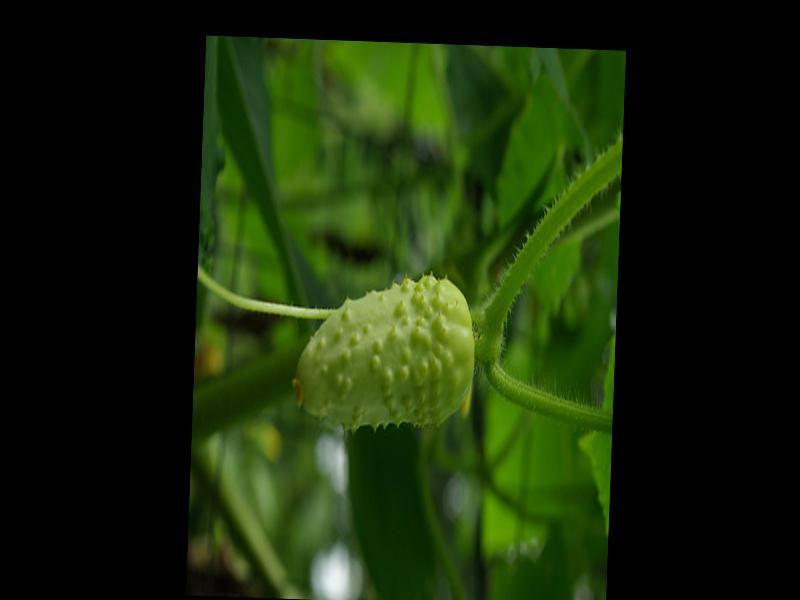Cucumber: (289, 269, 477, 431)
